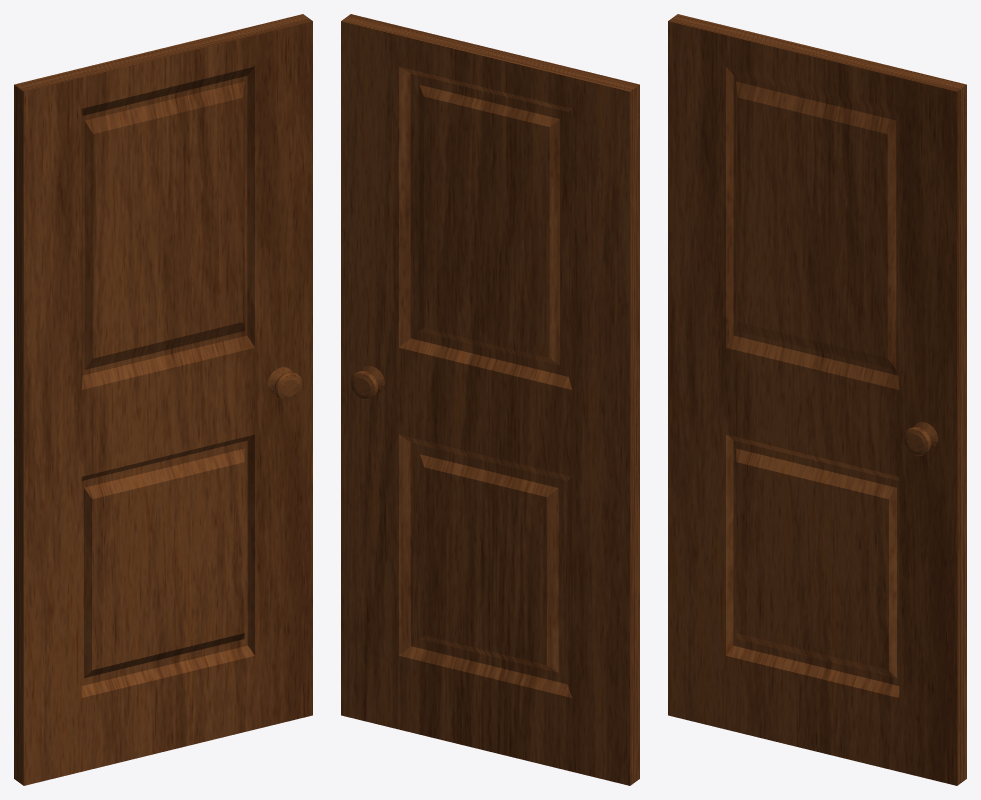
Rendered from door.fbx.
The picture shows the model from 3 angles, left to right: view 1: azimuth 30°, elevation 25°; view 2: azimuth 150°, elevation 25°; view 3: azimuth 330°, elevation 25°; orthographic projection.
Visible parts, largest first — view 1: door, Circle; view 2: door, Circle.001; view 3: door, Circle.
Part boxes in pixels (x1,y1,x2,y2): door: [14, 14, 312, 785]; Circle: [268, 367, 302, 401]; door: [341, 14, 639, 785]; Circle.001: [350, 366, 384, 399]; door: [668, 14, 966, 785]; Circle: [903, 422, 937, 456].
Size of the model in its own units: 85 by 195 by 14.8.
2 materials, 2 textured.
